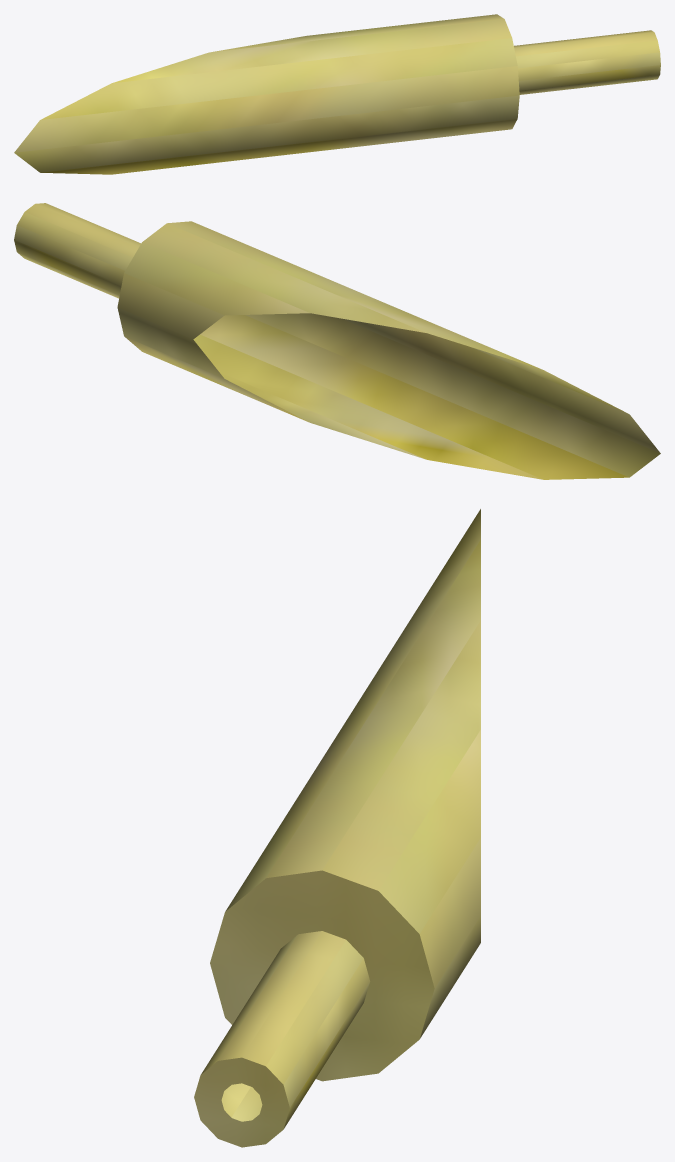
File: original-9.obj
The picture shows the model from 3 angles, top to bottom: view 1: azimuth 30°, elevation 25°; view 2: azimuth 150°, elevation 25°; view 3: azimuth 270°, elevation 25°; orthographic projection. The views are drawn at different scales.
Parts seen in each view (by area): view 1: Kreg_Pocket_Hole_3_4_2/Kreg_Pocket_Hole_3_4/mesh13/mesh13-geomet; view 2: Kreg_Pocket_Hole_3_4_2/Kreg_Pocket_Hole_3_4/mesh13/mesh13-geomet; view 3: Kreg_Pocket_Hole_3_4_2/Kreg_Pocket_Hole_3_4/mesh13/mesh13-geomet.
Part boxes in pixels (x1,y1,x2,y2): Kreg_Pocket_Hole_3_4_2/Kreg_Pocket_Hole_3_4/mesh13/mesh13-geomet: (14, 14, 660, 174); Kreg_Pocket_Hole_3_4_2/Kreg_Pocket_Hole_3_4/mesh13/mesh13-geomet: (14, 203, 660, 479); Kreg_Pocket_Hole_3_4_2/Kreg_Pocket_Hole_3_4/mesh13/mesh13-geomet: (194, 509, 480, 1147).
Bounding box in the file's own units: 0.0746 × 0.0128 × 0.0158.
